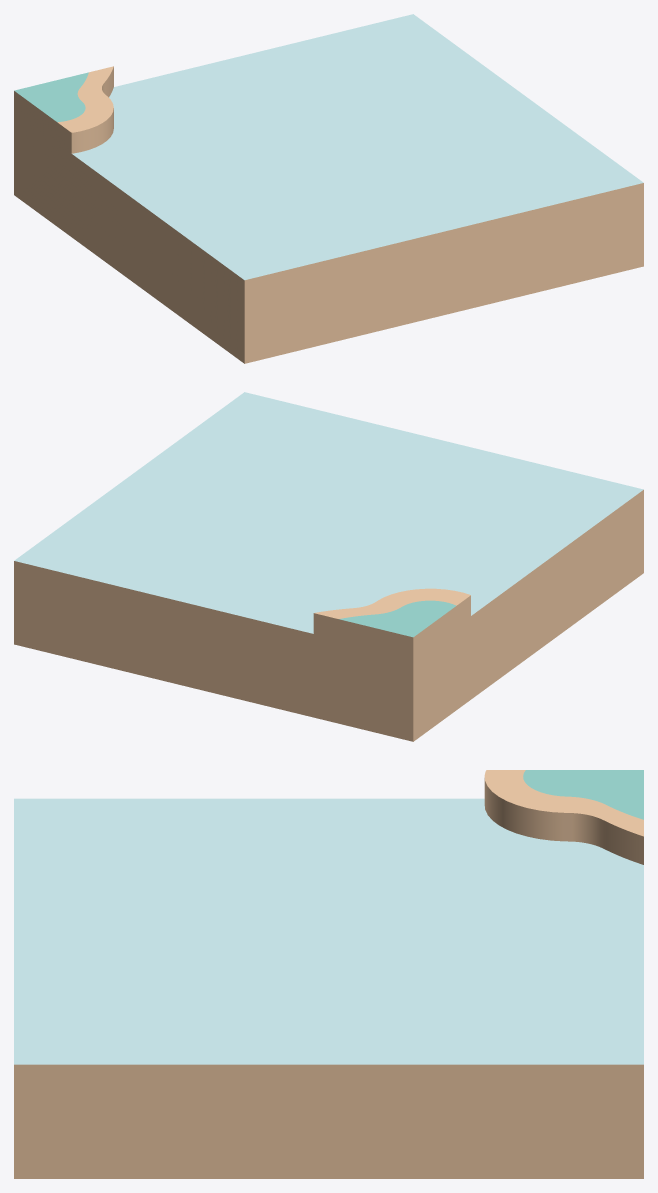
File: ground_dirtRiverCornerInner.glb
The picture shows the model from 3 angles, top to bottom: view 1: azimuth 30°, elevation 25°; view 2: azimuth 150°, elevation 25°; view 3: azimuth 270°, elevation 25°; orthographic projection. The views are drawn at different scales.
Visible parts, largest first — view 1: ground_dirtRiverCornerInner; view 2: ground_dirtRiverCornerInner; view 3: ground_dirtRiverCornerInner.
Part boxes in pixels (x1,y1,x2,y2): ground_dirtRiverCornerInner: (14, 14, 643, 363); ground_dirtRiverCornerInner: (14, 392, 643, 741); ground_dirtRiverCornerInner: (14, 770, 643, 1178).
Bounding box in the file's own units: 10 × 2.5 × 10.
